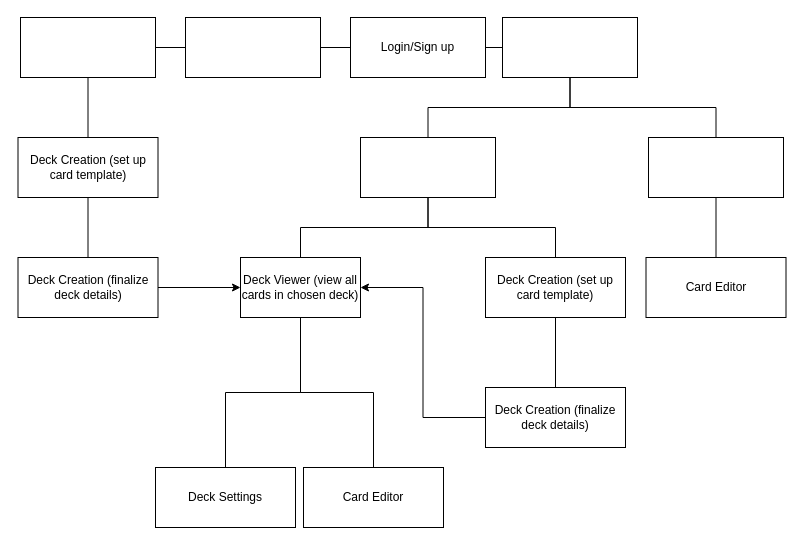
The diagram is 803 pixels wide and 545 high, and some of its shapes have lost their labels. Each missing label, with the box of its shape:
Create a deck: (20, 16, 156, 78)
How it works: (184, 16, 320, 78)
My Cards: (648, 136, 784, 198)
My Teams (view all decks): (360, 136, 496, 198)
Profile: (502, 16, 638, 78)
